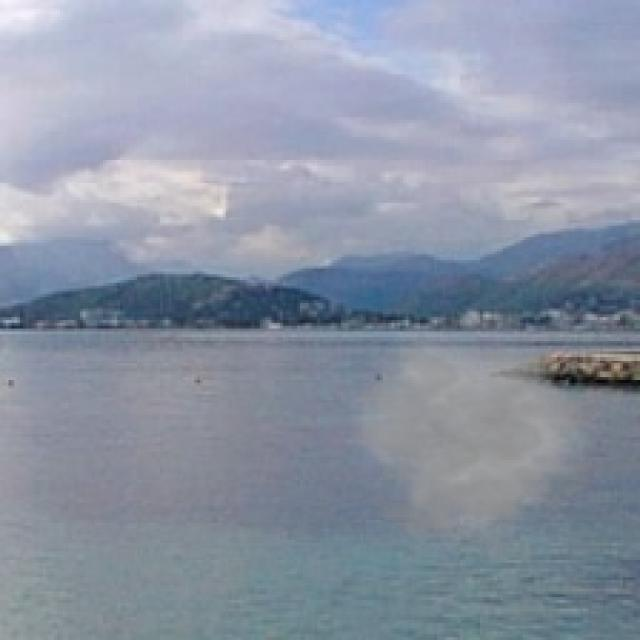Smoke: (340, 332, 606, 554)
